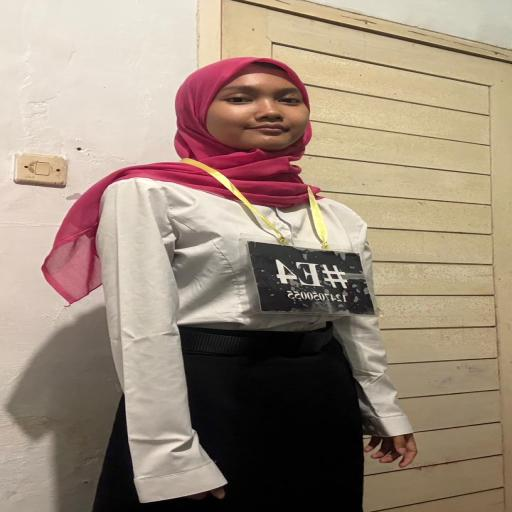kemeja_benar: (82, 184, 390, 330)
kerudung_benar: (108, 50, 344, 208)
nametag_ada: (236, 199, 386, 325)
rok_benar: (98, 357, 376, 512)
sabuk_ada: (162, 322, 354, 362)
